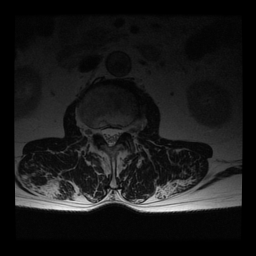CCS_normal: (107, 120, 114, 153)
LFS_normal: (122, 118, 129, 139)
LLS_normal: (114, 120, 122, 144)
RFS_normal: (92, 120, 99, 142)
RLS_normal: (99, 121, 107, 143)
